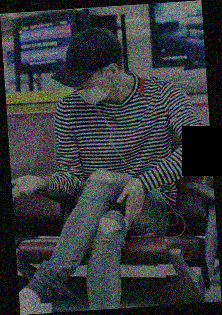mask_weared_incorrect: (73, 71, 110, 107)
